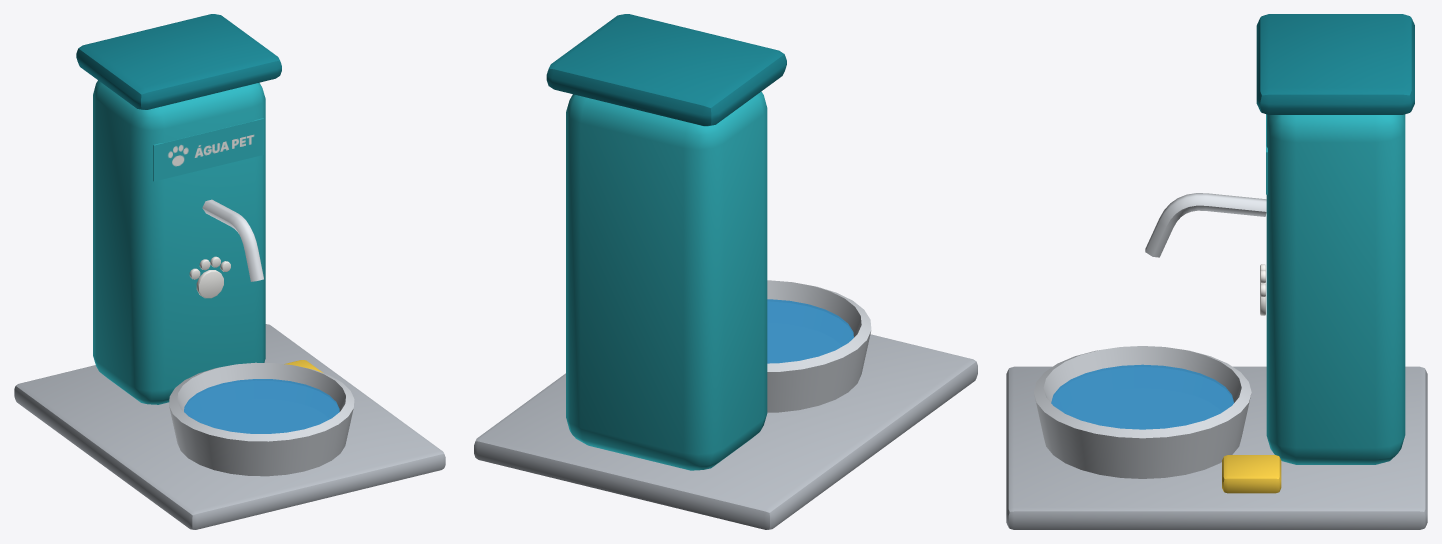
The model's file is bebedouro_cachorro.glb.
3 views of the same model, side by side, from view 1: azimuth 30°, elevation 25°; view 2: azimuth 150°, elevation 25°; view 3: azimuth 270°, elevation 25° (orthographic). The views are drawn at different scales.
Parts seen in each view (by area): view 1: bebedouro_cachorro; view 2: bebedouro_cachorro; view 3: bebedouro_cachorro.
Boxes of the visible parts, x1,y1,x2,y2 form: bebedouro_cachorro: [14, 14, 445, 529]; bebedouro_cachorro: [474, 14, 977, 529]; bebedouro_cachorro: [1006, 14, 1427, 529].
Size of the model in its own units: 0.7 by 0.91 by 0.85.
Materials: 3 (2 with a texture image).
